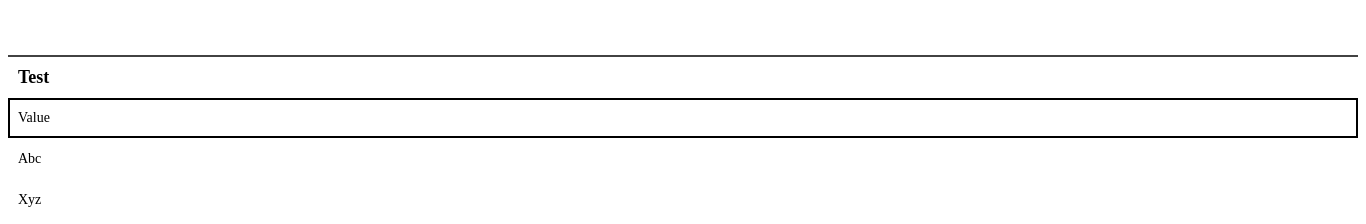
Test: Select › should be able to select only unique values from group
This screenshot has width=1366, height=224.
Press the mouse on the button "Value" at (34, 117), box [8, 98, 1358, 138]
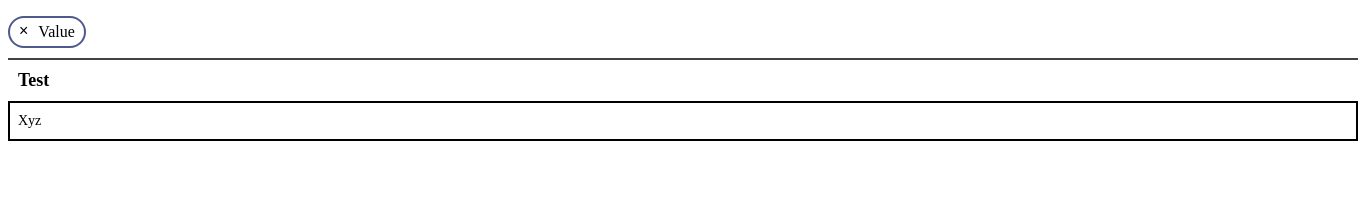
Expected: the number of "Value" components is 1, [8, 16, 86, 48]
Expected: the number of "Option" components is 1, [8, 101, 1358, 141]
Expected: the text "Xyz" is shown, [18, 113, 41, 128]
